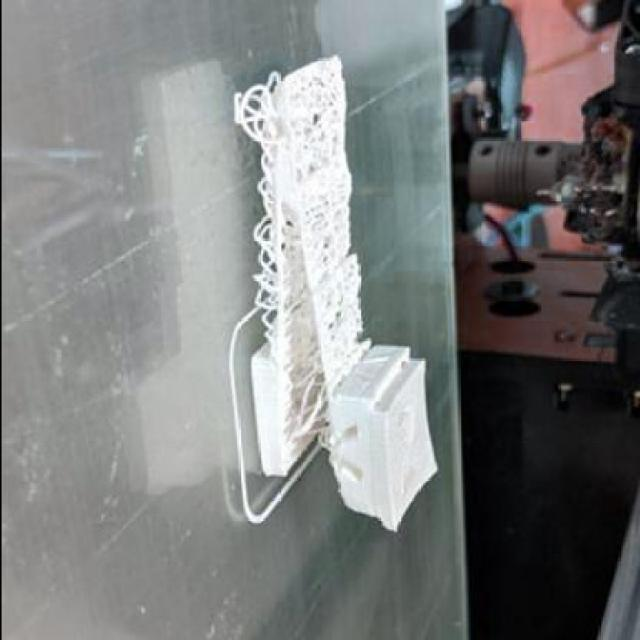spaghetti: (230, 53, 373, 442)
